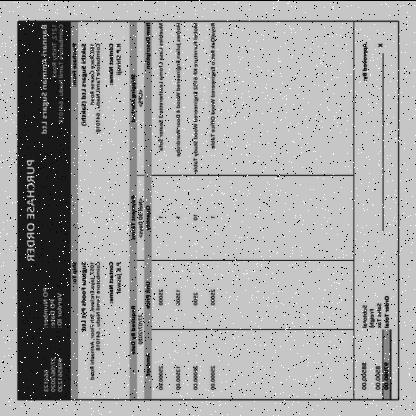Paragraph: (72, 259, 102, 380), (72, 41, 102, 133), (40, 22, 64, 134), (362, 294, 390, 390), (40, 286, 64, 393), (26, 158, 36, 262), (108, 41, 124, 86), (108, 260, 124, 304), (130, 72, 144, 122), (130, 195, 144, 240), (131, 304, 143, 354), (362, 41, 369, 81)
Table: (144, 21, 218, 398)
